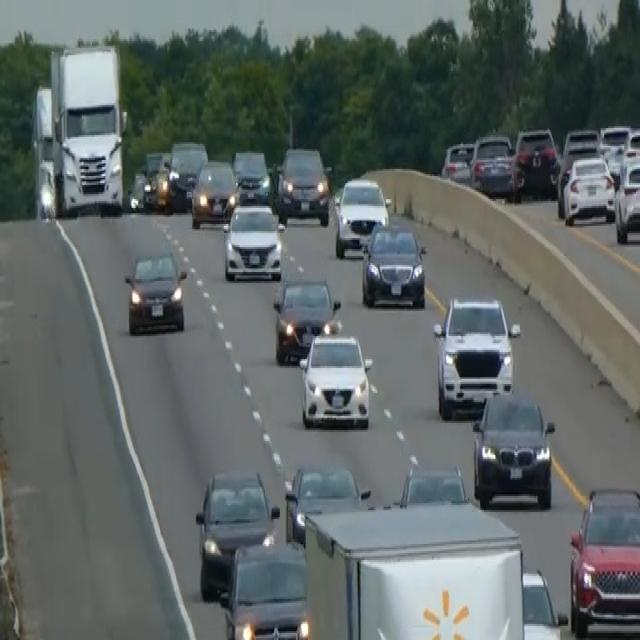car: (194, 466, 279, 599), (567, 484, 639, 638), (432, 294, 520, 419), (471, 388, 555, 508), (218, 537, 308, 638), (298, 322, 373, 428), (284, 460, 370, 544), (272, 272, 340, 364), (360, 220, 426, 308), (124, 247, 187, 336), (222, 199, 284, 281), (333, 176, 390, 258), (276, 144, 330, 226), (560, 153, 615, 226), (556, 126, 601, 201), (513, 125, 559, 198), (521, 567, 568, 638), (190, 156, 236, 228), (395, 462, 468, 507), (470, 132, 517, 198), (167, 138, 207, 210), (613, 150, 639, 243), (233, 148, 271, 202), (141, 149, 170, 210), (441, 139, 474, 185), (561, 124, 600, 162), (127, 167, 150, 212), (599, 123, 632, 151)
lorry: (30, 41, 128, 220)
